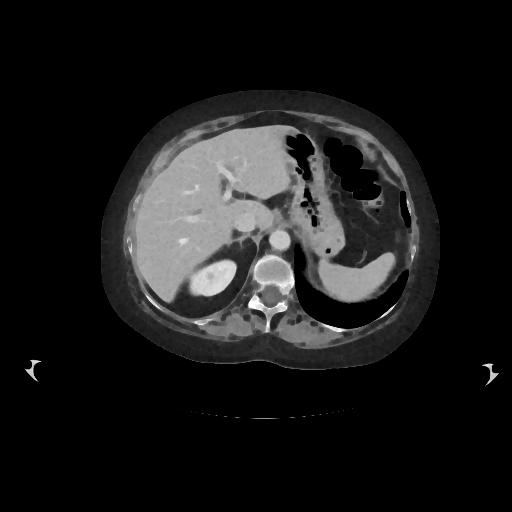Lesion: (202, 270, 215, 283)
